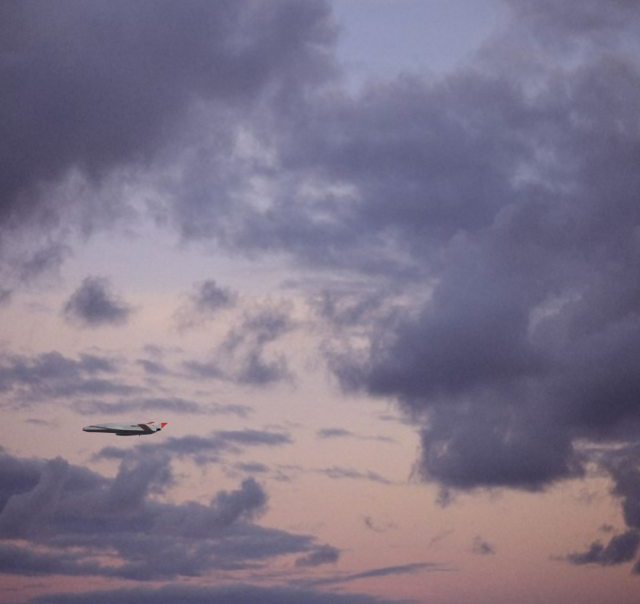military drone: (82, 421, 167, 436)
